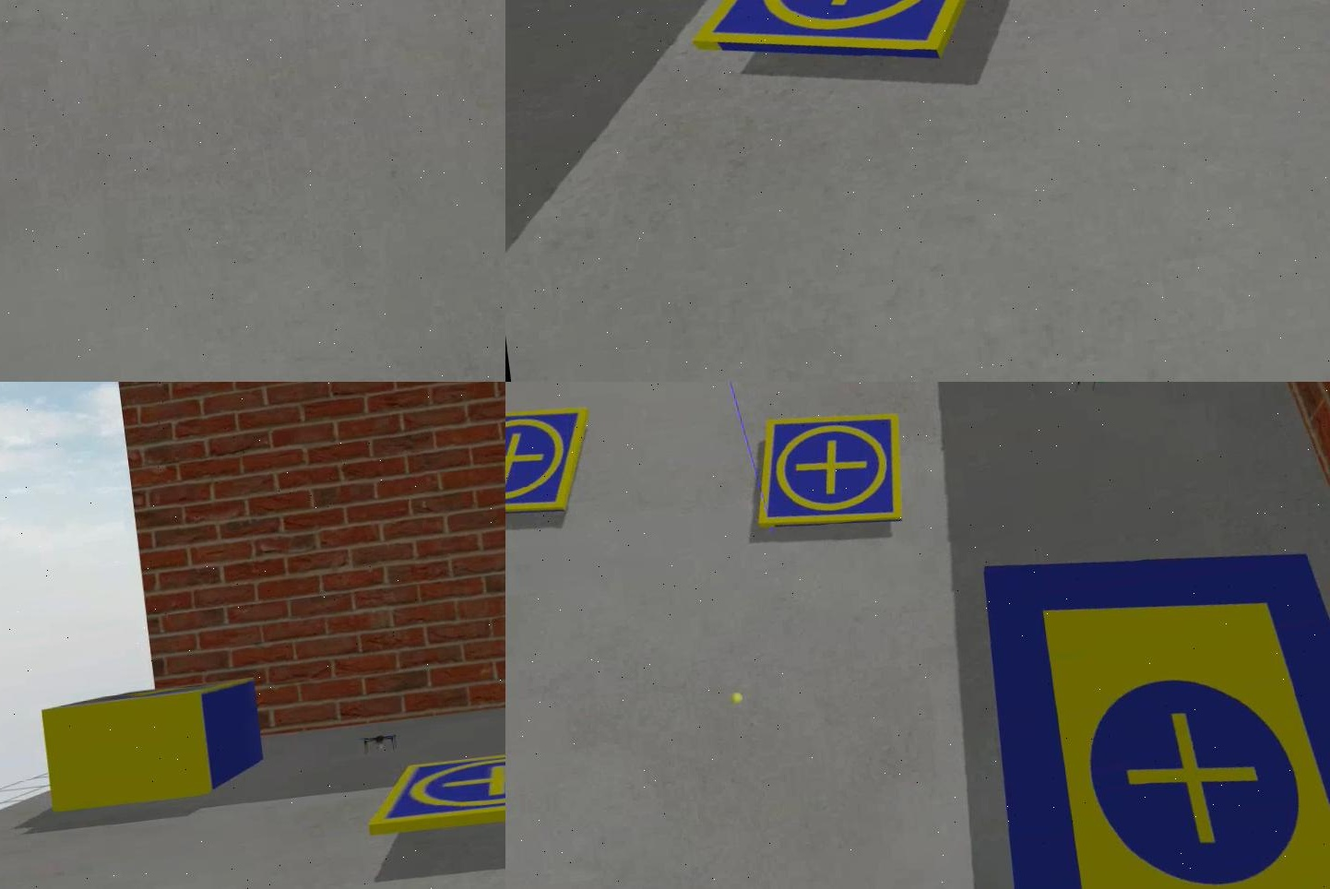large_base: (961, 512, 1328, 889)
small_base: (677, 1, 1021, 92), (742, 406, 914, 545), (361, 741, 505, 841), (505, 402, 596, 535)
